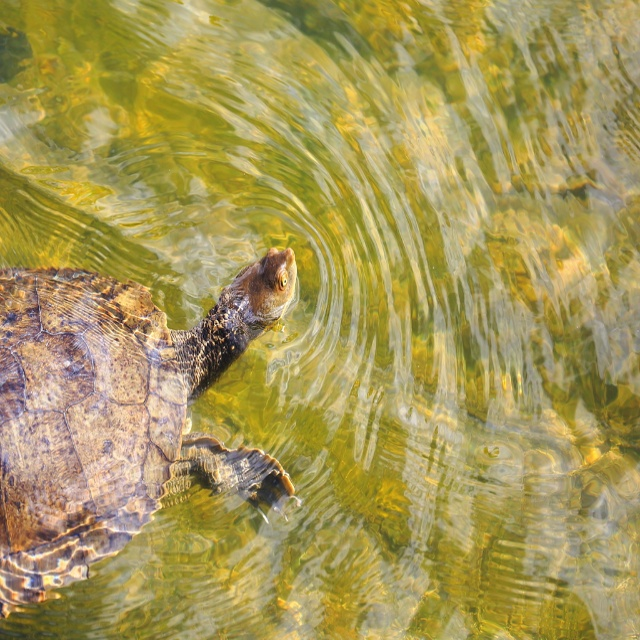Sea turtle: (0, 239, 304, 629)
